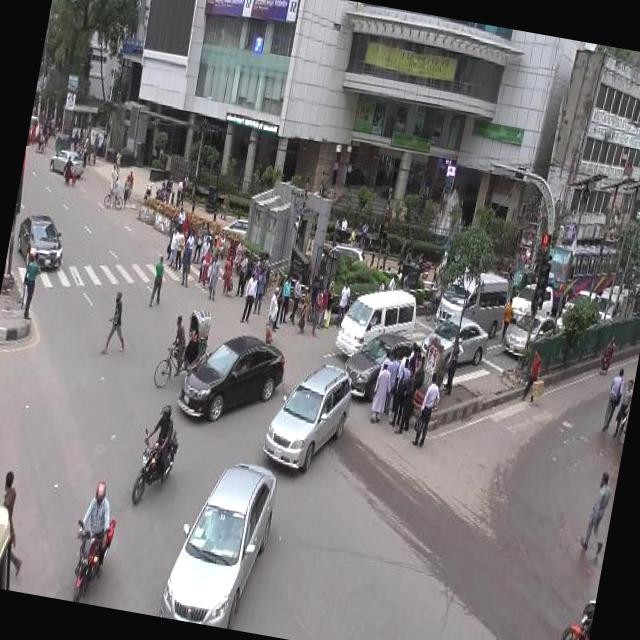bus: (542, 228, 624, 304)
car: (156, 442, 290, 632), (174, 320, 291, 434), (258, 352, 359, 477), (337, 320, 418, 410), (15, 210, 72, 272)
motorcycle: (63, 476, 125, 604), (123, 398, 188, 514), (152, 298, 220, 394)
truck: (333, 274, 422, 362), (432, 262, 515, 342)
